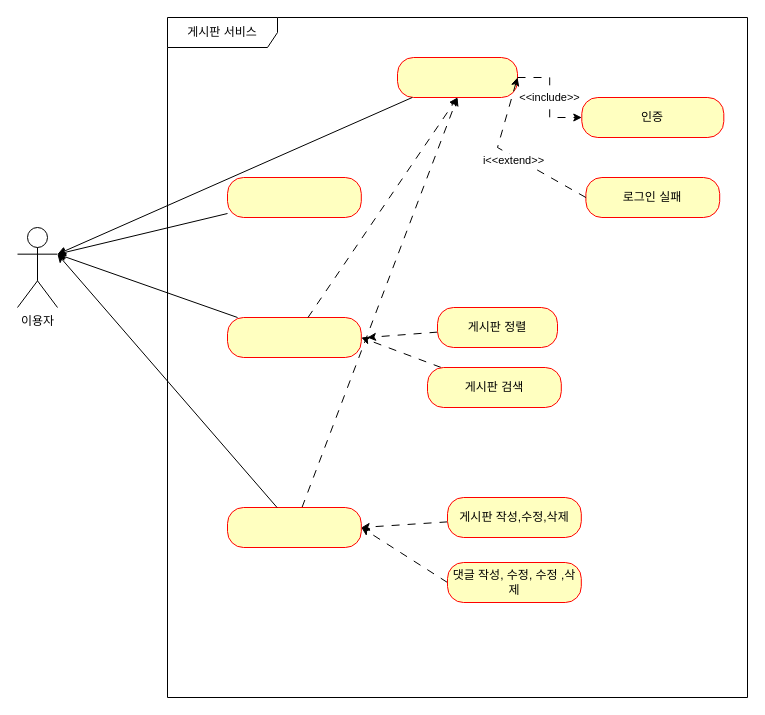
Image size: 765x715. Some labels were removed from this diagram. The shapes that lost their labels are listed below. From the top down, each one's box as (x1, y1, x2, y2) in pixels, then its label:
(396, 56, 518, 98): 로그인
(226, 176, 361, 218): 회원가입
(226, 316, 361, 358): 게시판 보기
(226, 506, 361, 548): 게시글 보기
